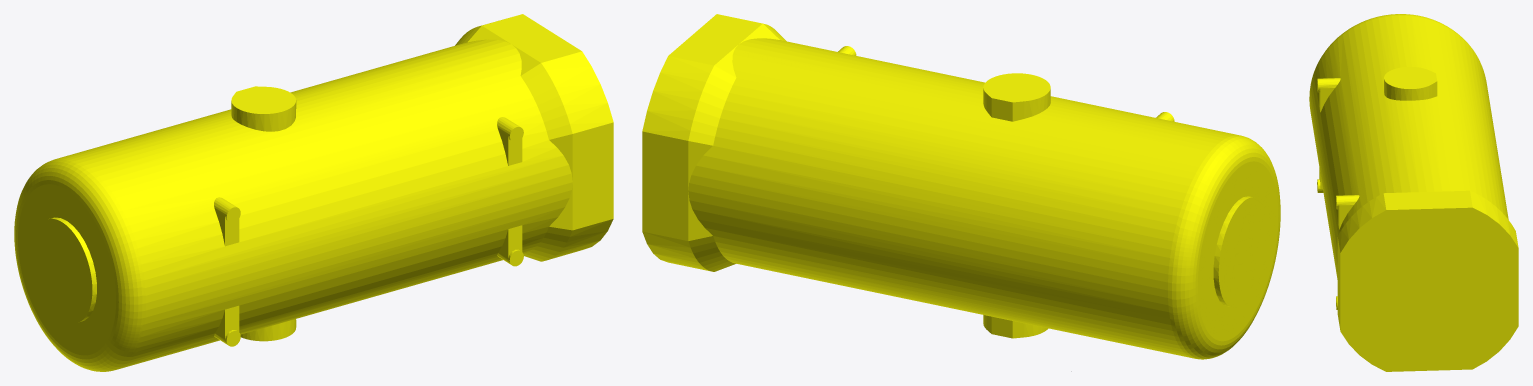
The picture shows the model from 3 angles, left to right: view 1: azimuth 30°, elevation 25°; view 2: azimuth 150°, elevation 25°; view 3: azimuth 270°, elevation 25°; orthographic projection. The views are drawn at different scales.
Parts seen in each view (by area): view 1: node; view 2: node; view 3: node.
Boxes of the visible parts, <box> form: node: <box>14,14,613,371</box>; node: <box>642,14,1280,371</box>; node: <box>1309,14,1518,371</box>.
Bounding box in the file's own units: 1056 × 475 × 452.
